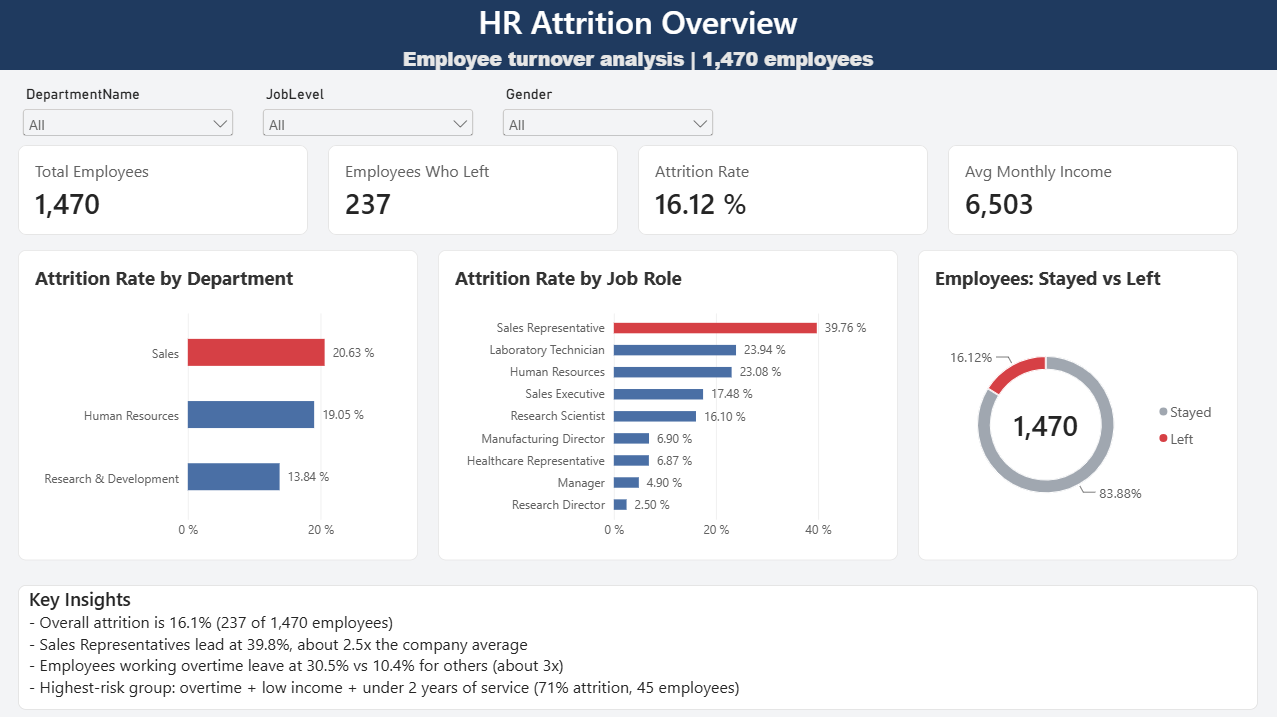

What the dashboard file says about the page in this screenshot:
{"tool":"powerbi","page":{"name":"Overview","canvas":[1280,720],"ordinal":0},"visuals":[{"type":"shape","box":[0,0,1280,70],"z":0},{"type":"textbox","title":"HR Attrition Overview","box":[0,0,1280,70],"z":1000},{"type":"cardVisual","fields":{"Data":["vw_HR_Full.Total Employees Display"]},"box":[20,145,290,90],"z":2000},{"type":"cardVisual","fields":{"Data":["vw_HR_Full.Leavers"]},"box":[330,145,290,90],"z":3000},{"type":"cardVisual","fields":{"Data":["vw_HR_Full.Attrition Rate"]},"box":[640,145,290,90],"z":4000},{"type":"cardVisual","fields":{"Data":["vw_HR_Full.Avg Income Display"]},"box":[950,145,290,90],"z":5000},{"type":"clusteredBarChart","title":"Attrition Rate by Department","fields":{"Category":["vw_HR_Full.DepartmentName"],"Y":["vw_HR_Full.Attrition Rate"]},"box":[20,250,400,310],"z":6000},{"type":"clusteredBarChart","title":"Attrition Rate by Job Role","fields":{"Category":["vw_HR_Full.JobRoleName"],"Y":["vw_HR_Full.Attrition Rate"]},"box":[440,250,460,310],"z":7000},{"type":"donutChart","title":"Employees: Stayed vs Left","fields":{"Category":["vw_HR_Full.AttritionStatus"],"Y":["vw_HR_Full.Total Employees"]},"box":[920,250,320,310],"z":8000},{"type":"slicer","fields":{"Values":["vw_HR_Full.DepartmentName"]},"box":[20,85,220,50],"z":9000},{"type":"slicer","fields":{"Values":["vw_HR_Full.Gender"]},"box":[500,85,220,50],"z":10000},{"type":"slicer","fields":{"Values":["vw_HR_Full.JobLevel"]},"box":[260,85,220,50],"z":11000},{"type":"textbox","box":[20,585,1240,125],"z":12000}]}

Visuals, with their boxes in screenshot pixels (x1, y1, x2, y2), scaled from the page's 1280x720 canvas onto the 1277x717 screenshot:
shape: [0,0,1276,70]
"HR Attrition Overview" textbox: [0,0,1276,70]
cardVisual - vw_HR_Full.Total Employees Display: [20,144,309,234]
cardVisual - vw_HR_Full.Leavers: [329,144,619,234]
cardVisual - vw_HR_Full.Attrition Rate: [638,144,928,234]
cardVisual - vw_HR_Full.Avg Income Display: [948,144,1237,234]
"Attrition Rate by Department" clusteredBarChart: [20,249,419,558]
"Attrition Rate by Job Role" clusteredBarChart: [439,249,898,558]
"Employees: Stayed vs Left" donutChart: [918,249,1237,558]
slicer - vw_HR_Full.DepartmentName: [20,85,239,134]
slicer - vw_HR_Full.Gender: [499,85,718,134]
slicer - vw_HR_Full.JobLevel: [259,85,479,134]
textbox: [20,583,1257,707]
